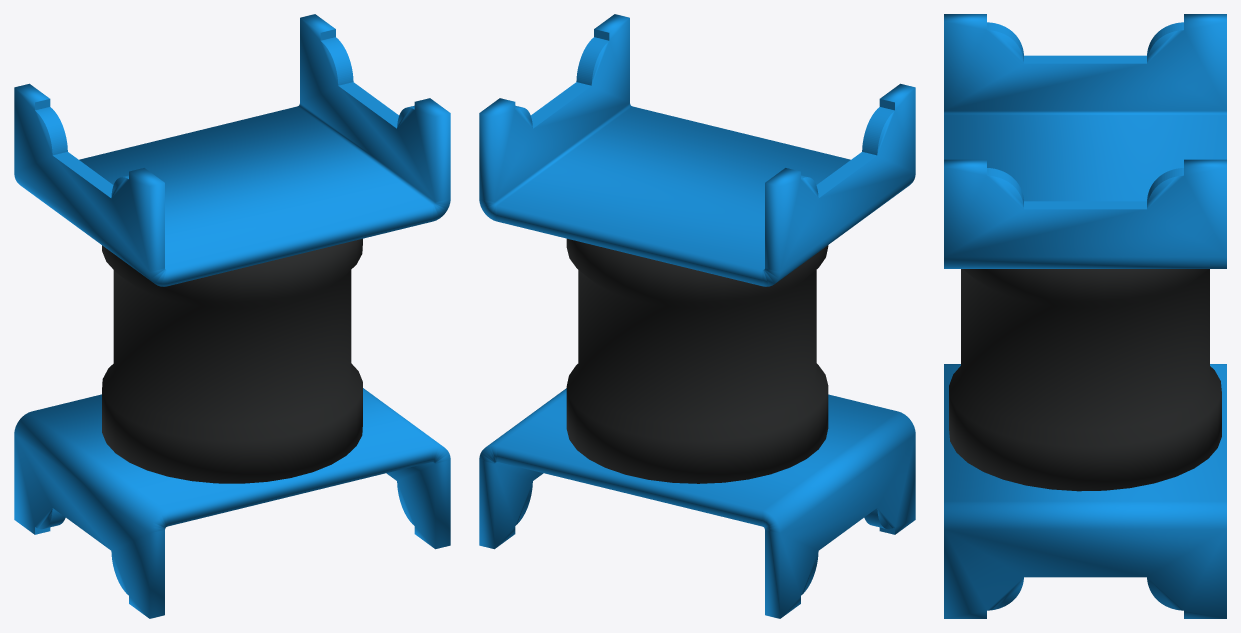
File: forearm_link.dae
3 views of the same model, side by side, from view 1: azimuth 30°, elevation 25°; view 2: azimuth 150°, elevation 25°; view 3: azimuth 270°, elevation 25° (orthographic). The views are drawn at different scales.
Parts seen in each view (by area): view 1: forearm-metal-part, forearm-cylinder; view 2: forearm-metal-part, forearm-cylinder; view 3: forearm-metal-part, forearm-cylinder.
Boxes of the visible parts, x1,y1,x2,y2 form: forearm-metal-part: (14, 14, 450, 618); forearm-cylinder: (102, 238, 362, 483); forearm-metal-part: (479, 14, 915, 618); forearm-cylinder: (566, 238, 828, 483); forearm-metal-part: (944, 14, 1226, 618); forearm-cylinder: (949, 269, 1221, 491).
Bounding box in the file's own units: 29.5 × 23 × 40.5.
